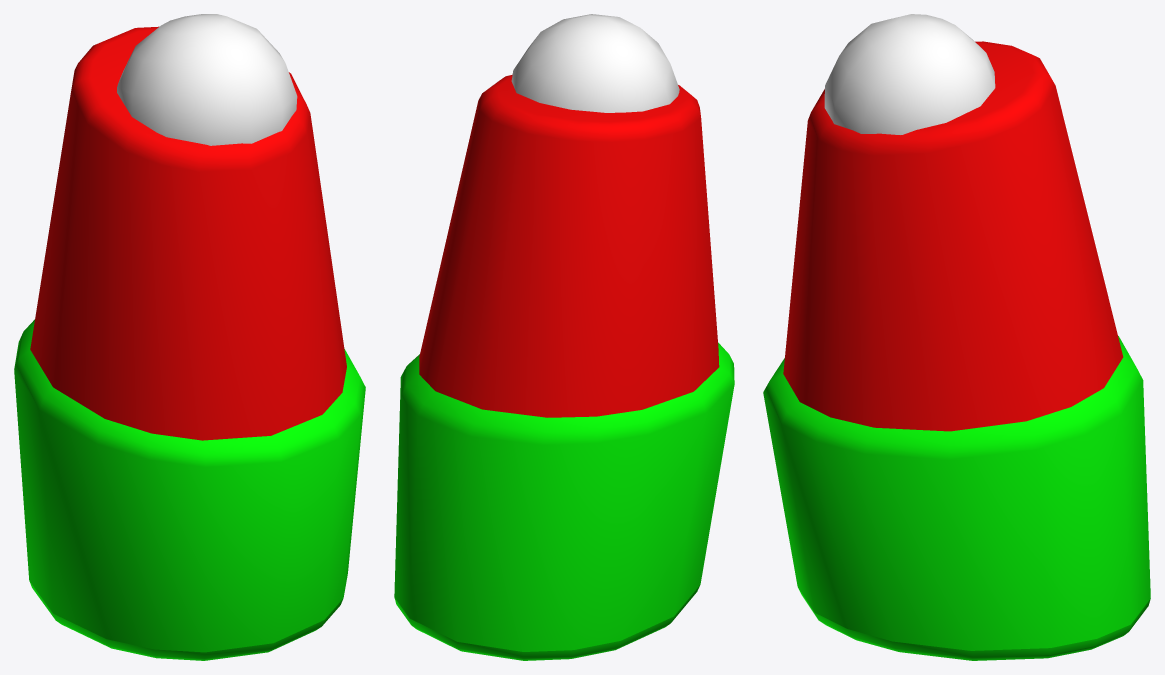
The model's file is Treble_LowerLeg.fbx.
The picture shows the model from 3 angles, left to right: view 1: azimuth 30°, elevation 25°; view 2: azimuth 150°, elevation 25°; view 3: azimuth 270°, elevation 25°; orthographic projection. The views are drawn at different scales.
Visible parts, largest first — view 1: Treble_LowerLeg; view 2: Treble_LowerLeg; view 3: Treble_LowerLeg.
Boxes of the visible parts, <box> form: Treble_LowerLeg: <box>14,14,365,660</box>; Treble_LowerLeg: <box>394,14,734,660</box>; Treble_LowerLeg: <box>763,14,1150,660</box>.
Size of the model in its own units: 22.79 by 43.78 by 26.44.
